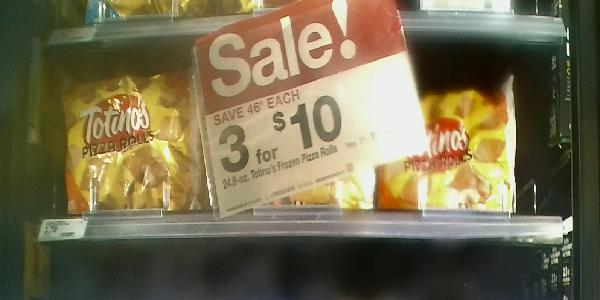icecream: (201, 36, 378, 213), (56, 49, 216, 217), (377, 40, 526, 216)
